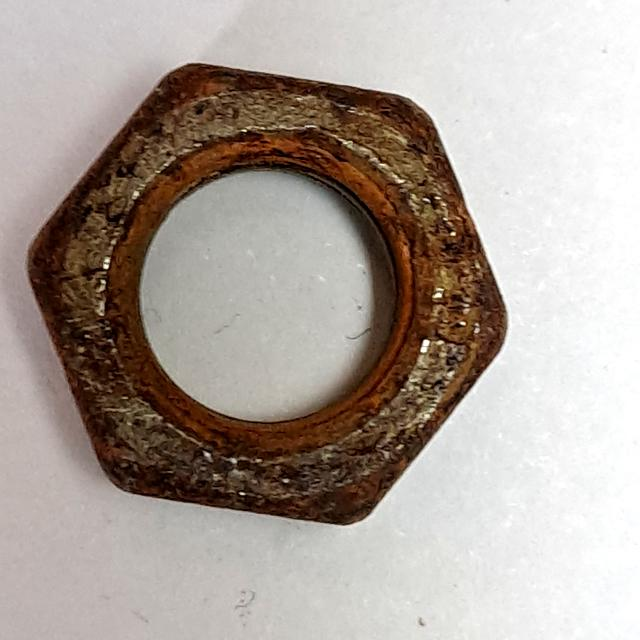Rust: (21, 51, 528, 540)
